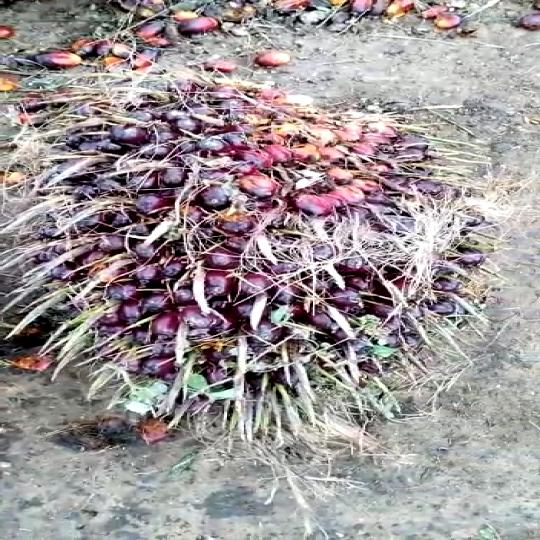kurang masak: (20, 62, 516, 444)
